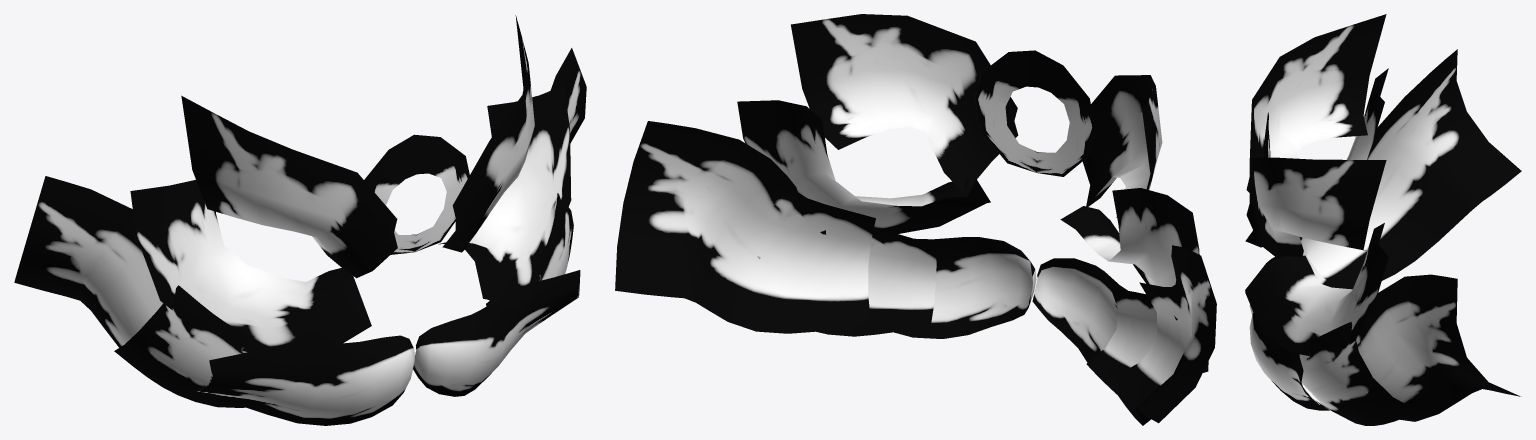
The model's file is FxMesh_LH_beard_1.fbx.
3 views of the same model, side by side, from view 1: azimuth 30°, elevation 25°; view 2: azimuth 150°, elevation 25°; view 3: azimuth 270°, elevation 25° (orthographic). The views are drawn at different scales.
Visible parts, largest first — view 1: FxMesh_LH_beard_1; view 2: FxMesh_LH_beard_1; view 3: FxMesh_LH_beard_1.
Part boxes in pixels (box(x1,y1,x2,y2)): FxMesh_LH_beard_1: box(14, 15, 586, 425); FxMesh_LH_beard_1: box(615, 14, 1216, 425); FxMesh_LH_beard_1: box(1245, 14, 1521, 425).
Bounding box in the file's own units: 469 × 251 × 223.
1 material, 1 textured.
